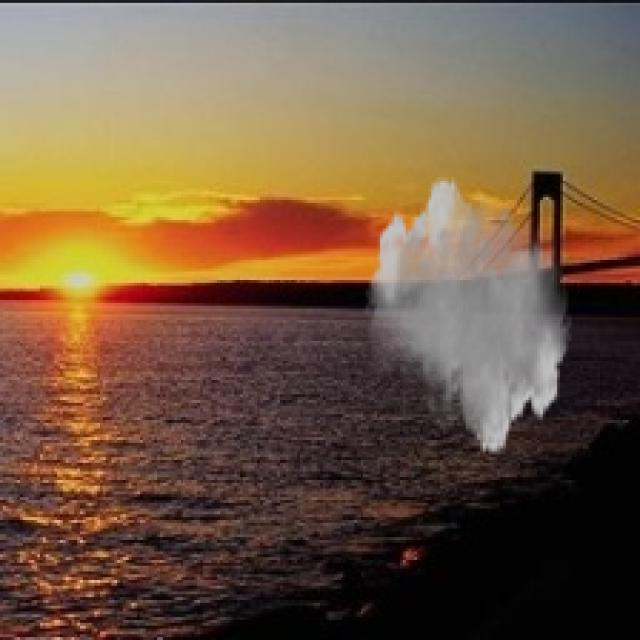Smoke: (366, 174, 572, 457)
